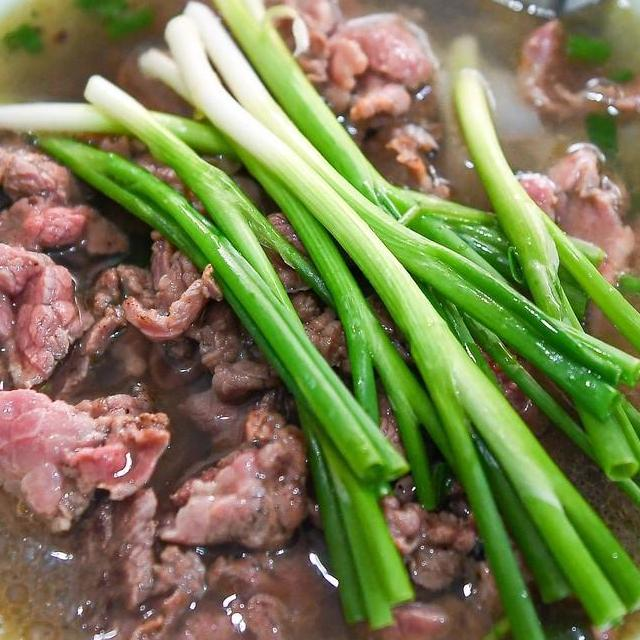thit bo: (0, 223, 230, 452), (493, 132, 640, 367), (143, 378, 331, 556), (176, 272, 423, 400), (0, 376, 178, 544), (232, 0, 444, 141), (70, 535, 338, 640), (351, 478, 522, 640), (0, 115, 135, 270), (0, 232, 109, 401), (509, 8, 640, 140)
